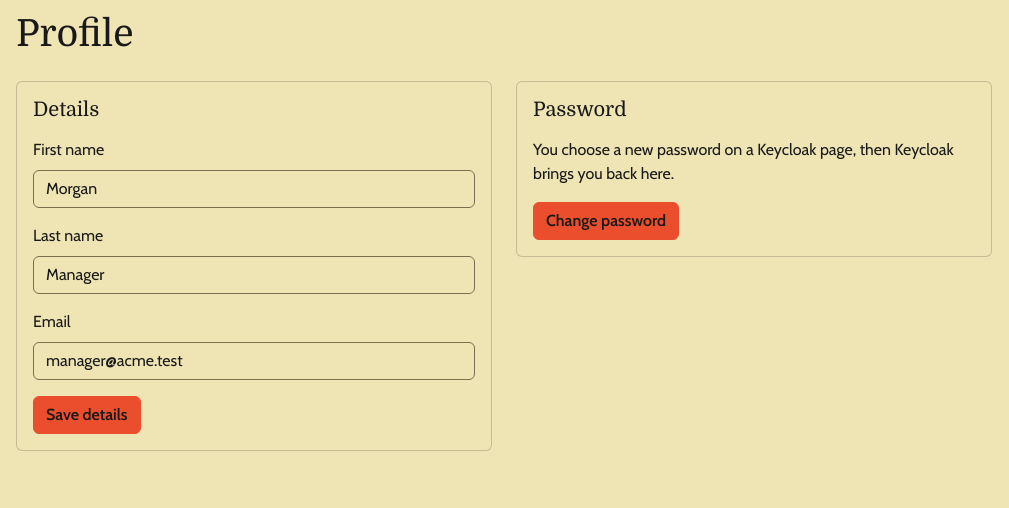
Test: saves the changed name and email to Keycloak and refreshes the token
Replace the text in the field labelled "First name" with "Morgana" at (254, 189), box [33,170,475,208]
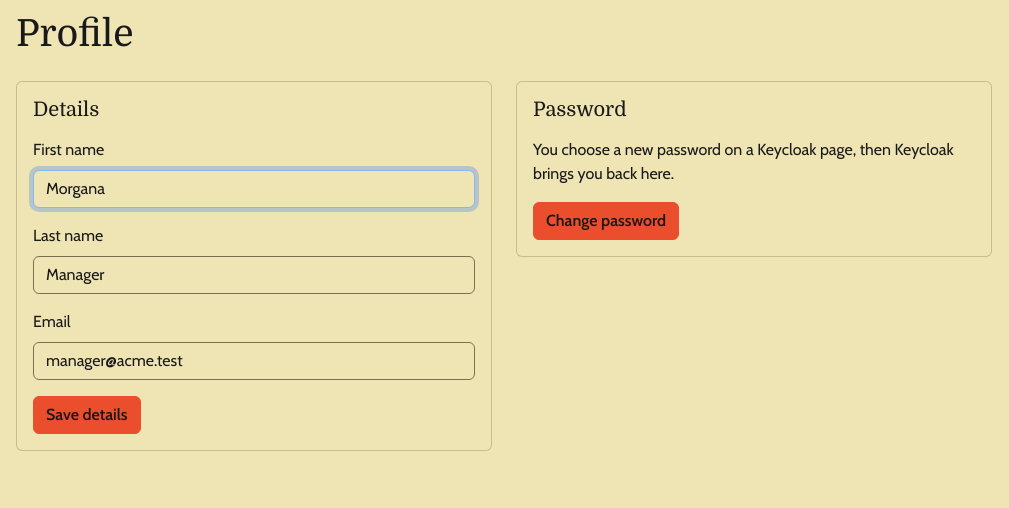
Replace the text in the field labelled "Email" with "morgana@acme.test" at (254, 361), box [33,342,475,380]
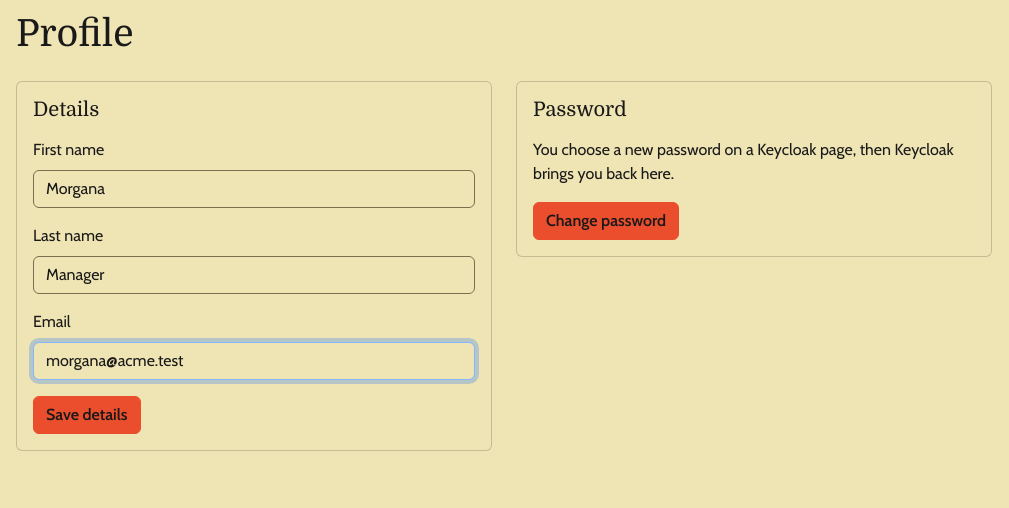
Click the button "Save details".
click(87, 415)  # box [33,396,140,434]
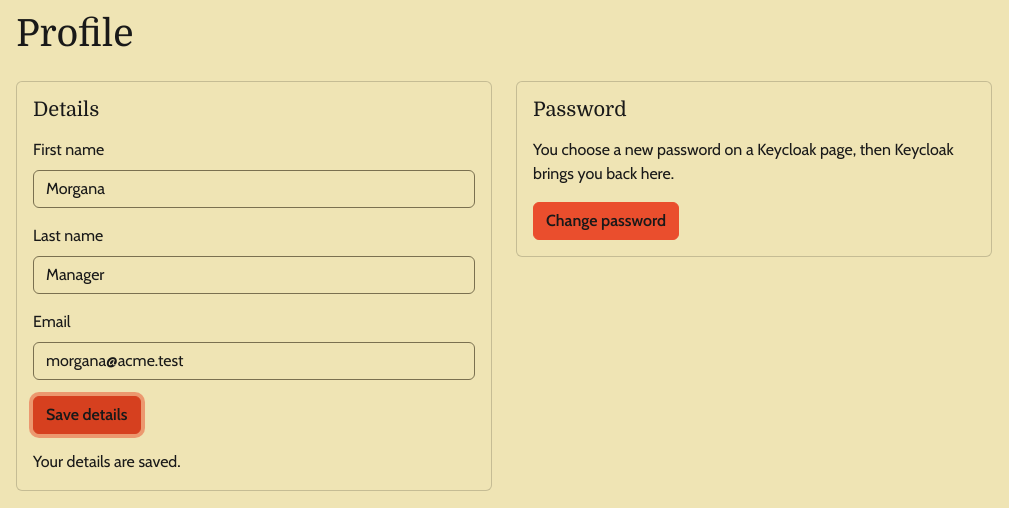
Result: the message reads "Your details are saved." at [33,452,181,471]
